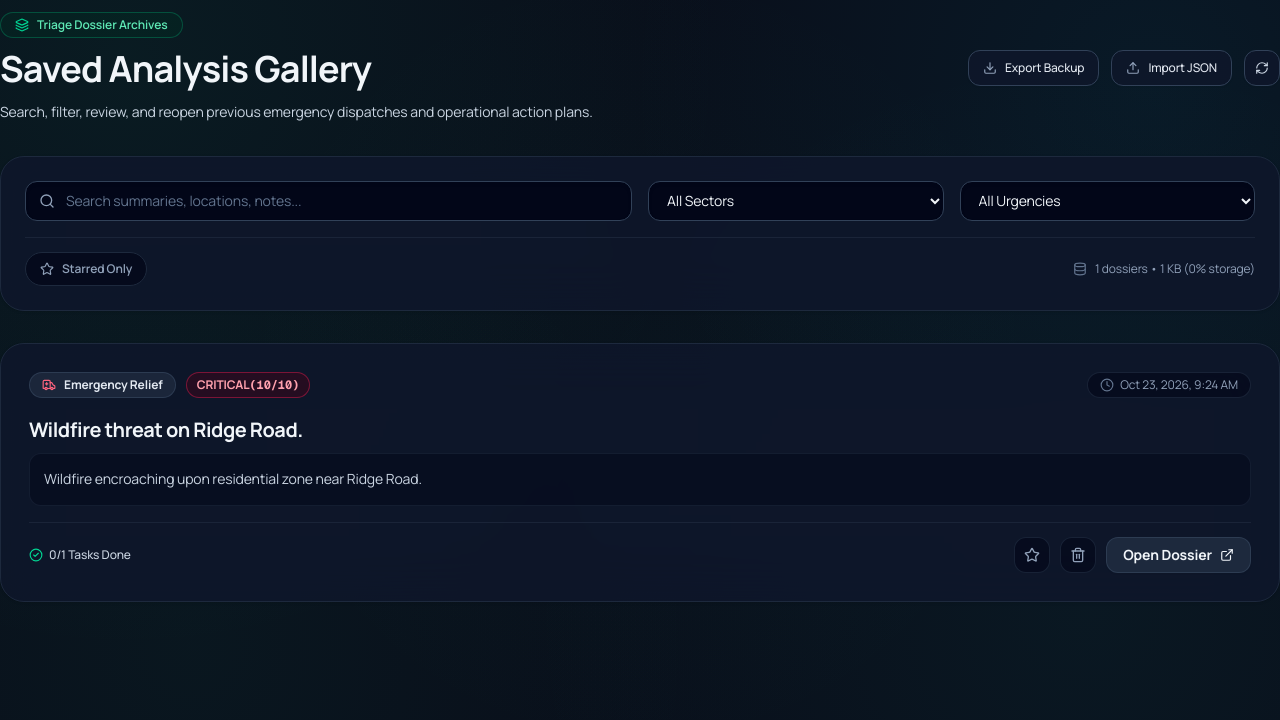
it: HistorySection Component › deletes an item when clicking the trash button
Expected: the heading "Wildfire threat on Ridge Road." is shown, [29,416,303,443]
Click the button named "Delete this analysis record" at (1078, 555), box [1060,537,1096,573]
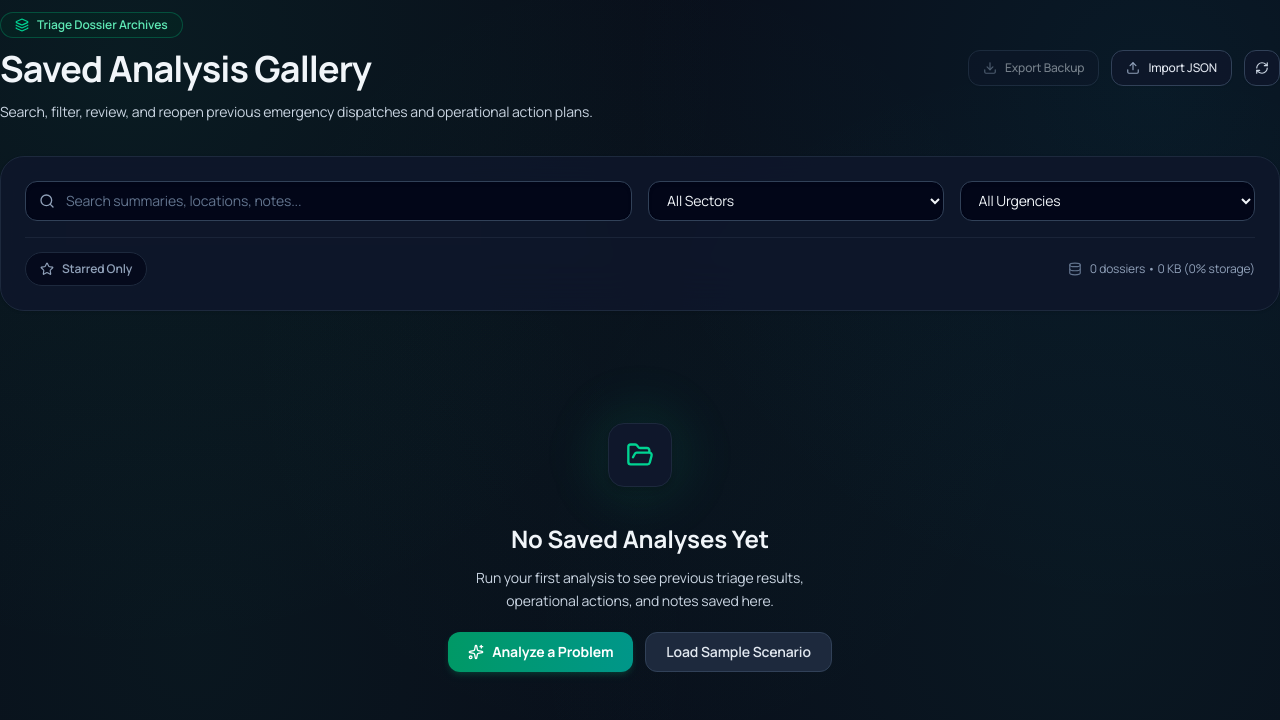
Now the heading "Wildfire threat on Ridge Road." is gone
